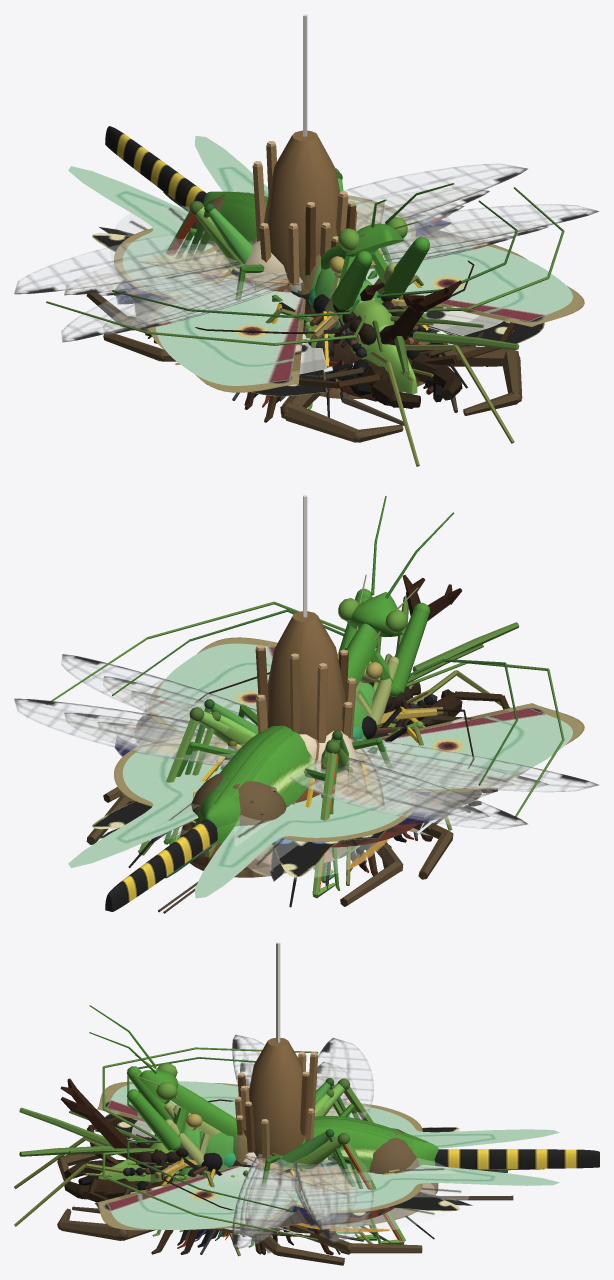
Rendered from bugs.glb.
The picture shows the model from 3 angles, top to bottom: view 1: azimuth 30°, elevation 25°; view 2: azimuth 150°, elevation 25°; view 3: azimuth 270°, elevation 25°; orthographic projection. The views are drawn at different scales.
Visible parts, largest first — view 1: bug_ginkkori__wing_R, bug_jangsujamjari__wing_R, bug_dorongi, bug_ginkkori__wing_L, bug_jangsujamjari__wing_L, bug_wangjamjari__wing_R, bug_wangsamagwi, bug_muljanggun, bug_wangjamjari__wing_L, bug_jangsuhaneulso, bug_yeochi, bug_bangakkaebi (+21 smaller); view 2: bug_ginkkori__wing_R, bug_wangsamagwi, bug_jangsujamjari__wing_R, bug_ginkkori__wing_L, bug_jangsujamjari__wing_L, bug_dorongi, bug_wangjamjari__wing_R, bug_wangjamjari__wing_L, bug_bangakkaebi, bug_yeochi, bug_jangsujamjari__main, bug_malmaemi__wing_R (+22 smaller); view 3: bug_ginkkori__wing_L, bug_jangsujamjari__wing_L, bug_wangsamagwi, bug_dorongi, bug_wangjamjari__wing_L, bug_ginkkori__wing_R, bug_muljanggun, bug_yeochi, bug_jangsujamjari__wing_R, bug_bangakkaebi, bug_jangsujamjari__main, bug_malmaemi__wing_L (+20 smaller).
Part boxes in pixels (x1=…): bug_ginkkori__wing_R: x1=68, y1=166, x2=303, y2=385; bug_jangsujamjari__wing_R: x1=14, y1=230, x2=287, y2=342; bug_dorongi: x1=252, y1=14, x2=357, y2=285; bug_ginkkori__wing_L: x1=195, y1=136, x2=572, y2=321; bug_jangsujamjari__wing_L: x1=344, y1=164, x2=598, y2=254; bug_wangjamjari__wing_R: x1=64, y1=243, x2=283, y2=335; bug_wangsamagwi: x1=175, y1=183, x2=454, y2=309; bug_muljanggun: x1=86, y1=289, x2=522, y2=442; bug_wangjamjari__wing_L: x1=356, y1=187, x2=548, y2=260; bug_jangsuhaneulso: x1=145, y1=322, x2=516, y2=422; bug_yeochi: x1=112, y1=172, x2=517, y2=328; bug_bangakkaebi: x1=166, y1=168, x2=519, y2=409; bug_ginkkori__wing_R: x1=195, y1=707, x2=572, y2=898; bug_wangsamagwi: x1=176, y1=496, x2=454, y2=890; bug_jangsujamjari__wing_R: x1=290, y1=737, x2=598, y2=829; bug_ginkkori__wing_L: x1=68, y1=643, x2=274, y2=867; bug_jangsujamjari__wing_L: x1=14, y1=654, x2=256, y2=762; bug_dorongi: x1=255, y1=495, x2=356, y2=742; bug_wangjamjari__wing_R: x1=300, y1=747, x2=548, y2=820; bug_wangjamjari__wing_L: x1=64, y1=676, x2=253, y2=765; bug_bangakkaebi: x1=138, y1=595, x2=518, y2=898; bug_yeochi: x1=112, y1=609, x2=517, y2=883; bug_jangsujamjari__main: x1=105, y1=727, x2=362, y2=911; bug_malmaemi__wing_R: x1=234, y1=802, x2=389, y2=878; bug_ginkkori__wing_L: x1=106, y1=1165, x2=559, y2=1229; bug_jangsujamjari__wing_L: x1=232, y1=1153, x2=373, y2=1249; bug_wangsamagwi: x1=89, y1=1005, x2=438, y2=1247; bug_dorongi: x1=235, y1=942, x2=318, y2=1169; bug_wangjamjari__wing_L: x1=240, y1=1160, x2=357, y2=1236; bug_ginkkori__wing_R: x1=106, y1=1081, x2=559, y2=1148; bug_muljanggun: x1=57, y1=1139, x2=422, y2=1265; bug_yeochi: x1=127, y1=1057, x2=376, y2=1240; bug_jangsujamjari__wing_R: x1=232, y1=1034, x2=373, y2=1119; bug_bangakkaebi: x1=19, y1=1078, x2=405, y2=1244; bug_jangsujamjari__main: x1=223, y1=1149, x2=599, y2=1169; bug_malmaemi__wing_L: x1=242, y1=1158, x2=470, y2=1232.
Bounding box in the file's own units: 0.9522 × 0.5508 × 1.1.
Materials: 263 (93 with a texture image).
